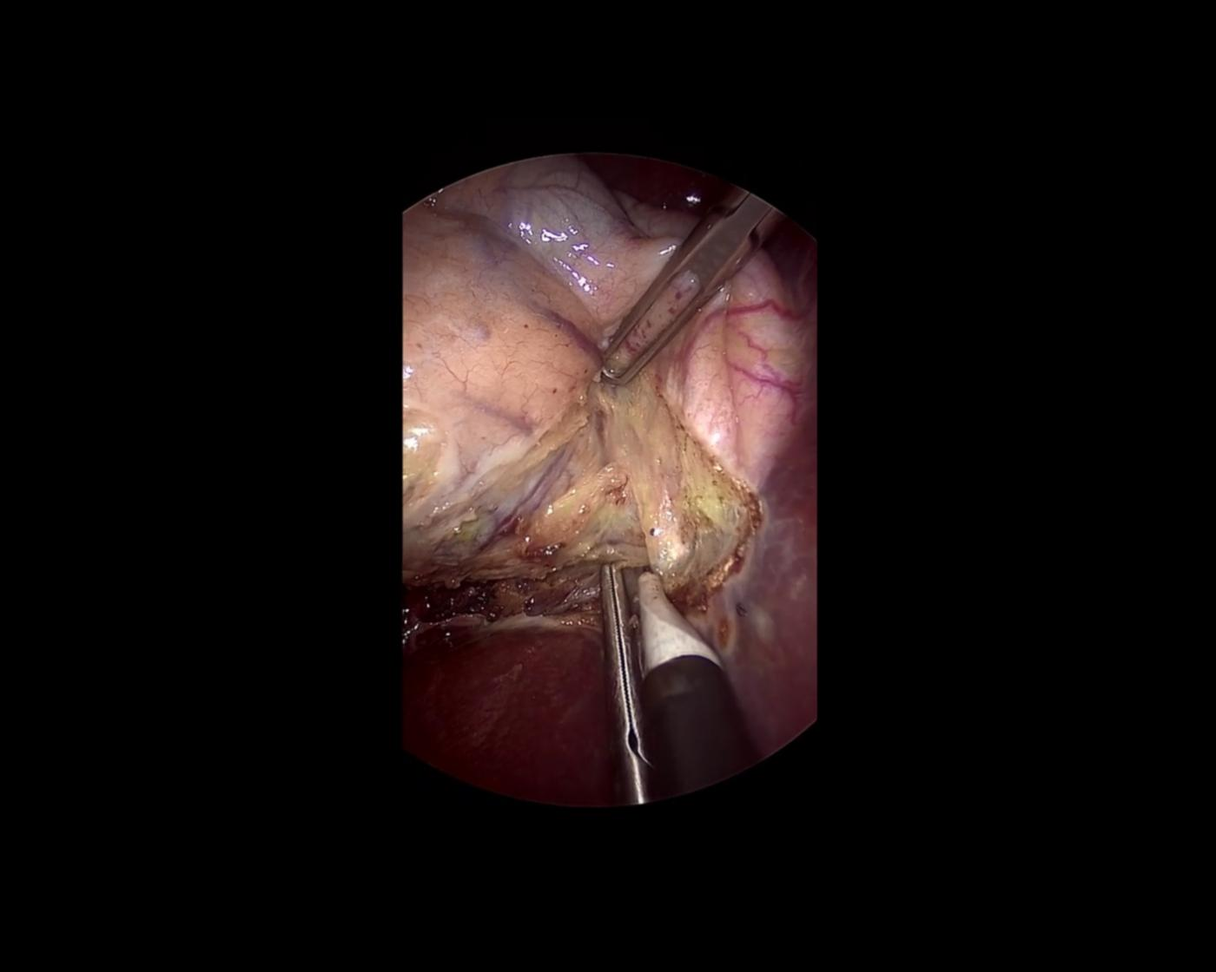Cautery: (589, 557, 756, 797)
Forceps: (571, 176, 785, 390), (578, 563, 659, 806)
Gallbladder: (397, 153, 804, 581)
Liver: (352, 413, 941, 898)
